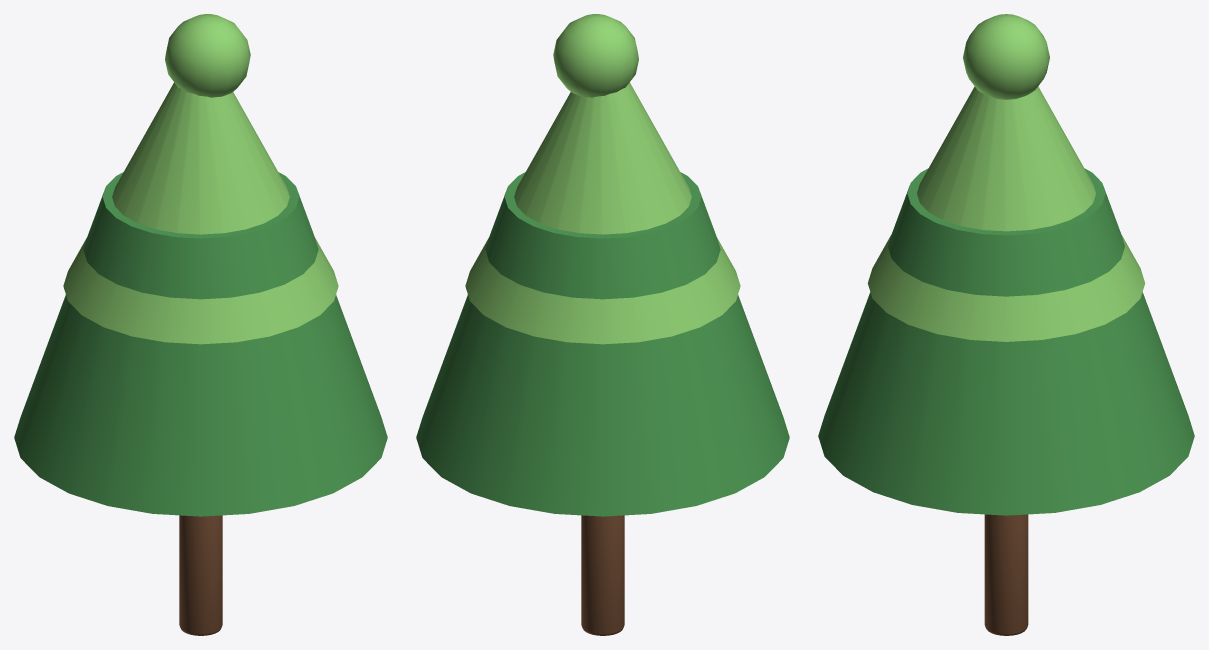
File: tree_small.glb
3 renders of one model, left to right at view 1: azimuth 30°, elevation 25°; view 2: azimuth 150°, elevation 25°; view 3: azimuth 270°, elevation 25°, orthographic.
Parts seen in each view (by area): view 1: tree_small; view 2: tree_small; view 3: tree_small.
Part boxes in pixels (left/top/right/bottom): tree_small: left=14, top=14, right=387, bottom=635; tree_small: left=416, top=14, right=789, bottom=635; tree_small: left=818, top=14, right=1194, bottom=635.
Bounding box in the file's own units: 1.9 × 3.42 × 1.9.
